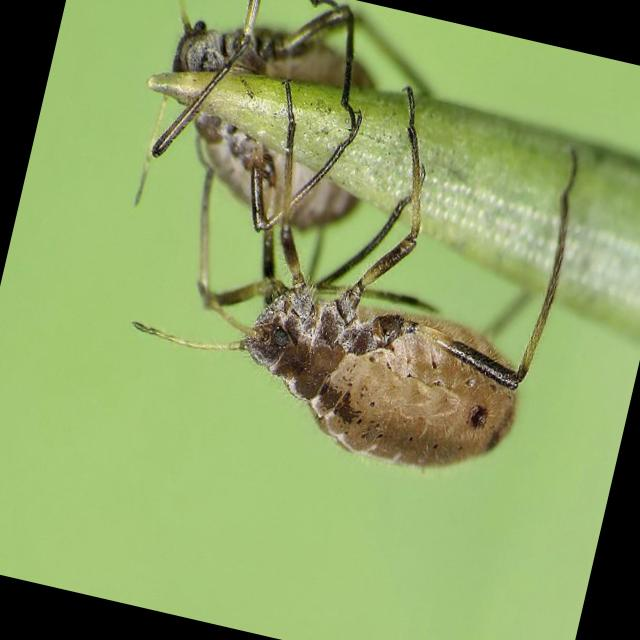Aphid: (122, 90, 589, 530)
